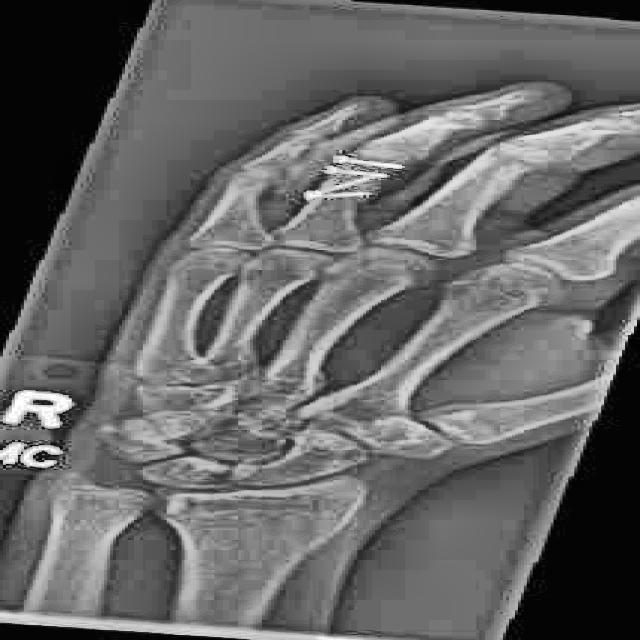fingers positive: (319, 152, 417, 221)
